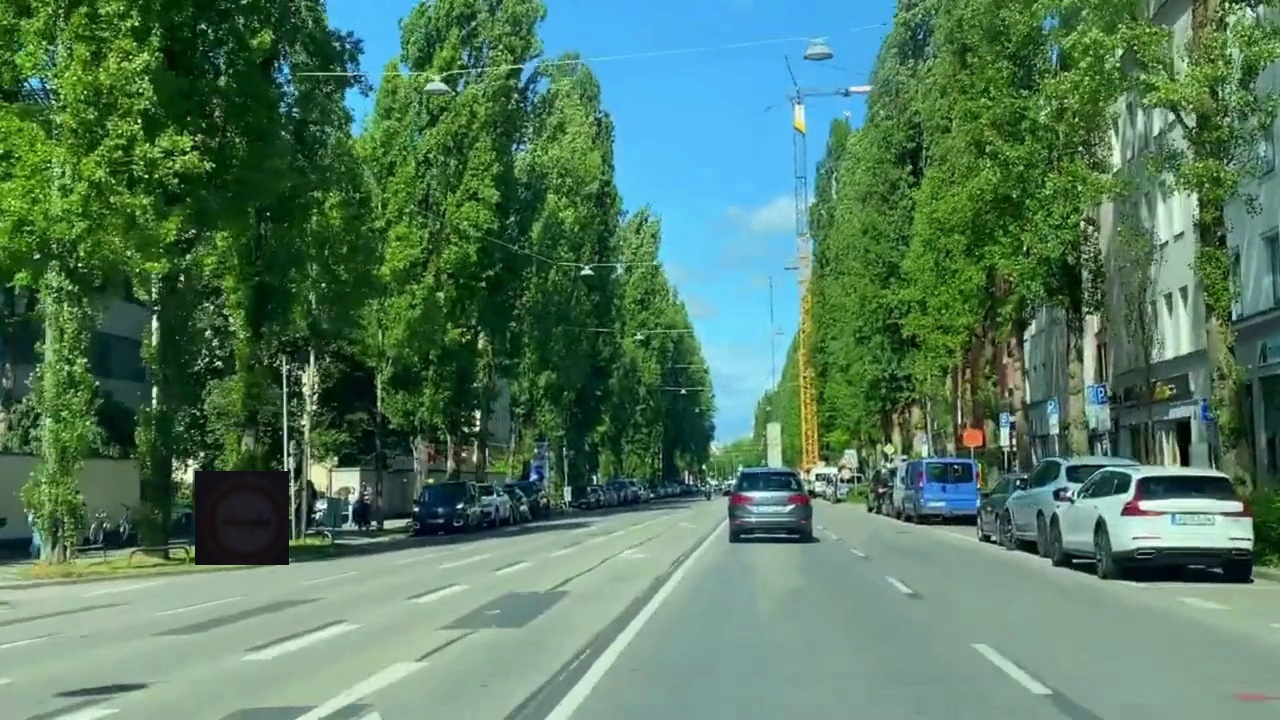No passing: (195, 471, 289, 565)
